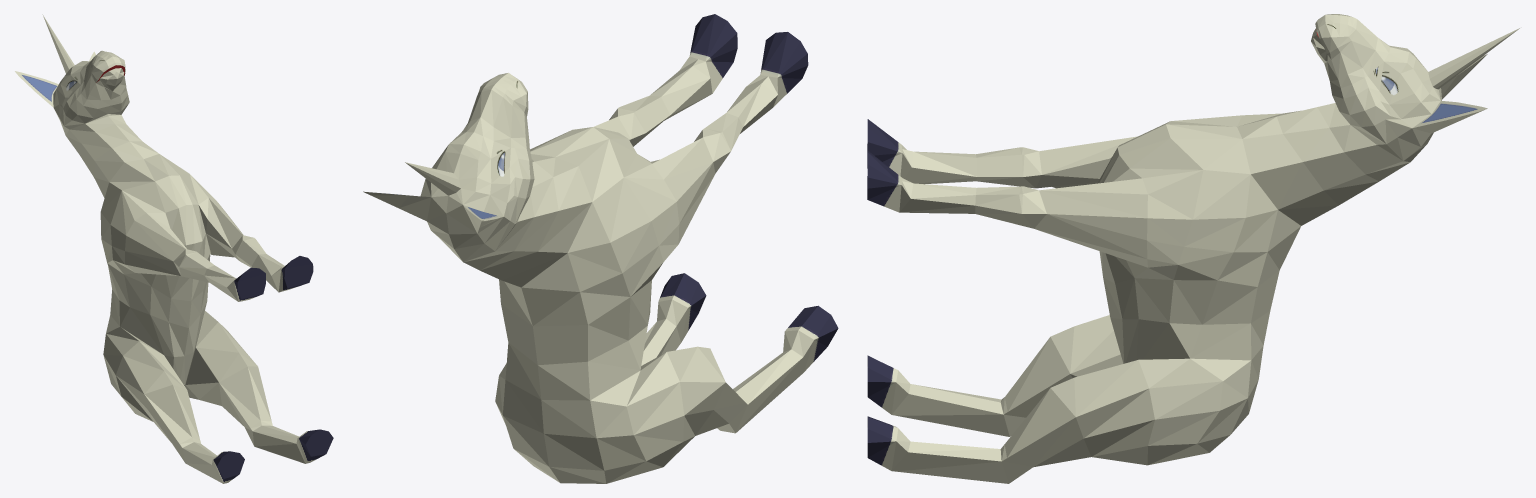
File: BR_Rapidash-Shiny01.obj
3 renders of one model, left to right at view 1: azimuth 30°, elevation 25°; view 2: azimuth 150°, elevation 25°; view 3: azimuth 270°, elevation 25°, orthographic. The views are drawn at different scales.
Visible parts, largest first — view 1: gallop; view 2: gallop; view 3: gallop.
Boxes of the visible parts, x1,y1,x2,y2 form: gallop: (15,14,333,483); gallop: (363,14,838,483); gallop: (867,14,1519,483).
Bounding box in the file's own units: 5.56 × 14.36 × 19.24.
